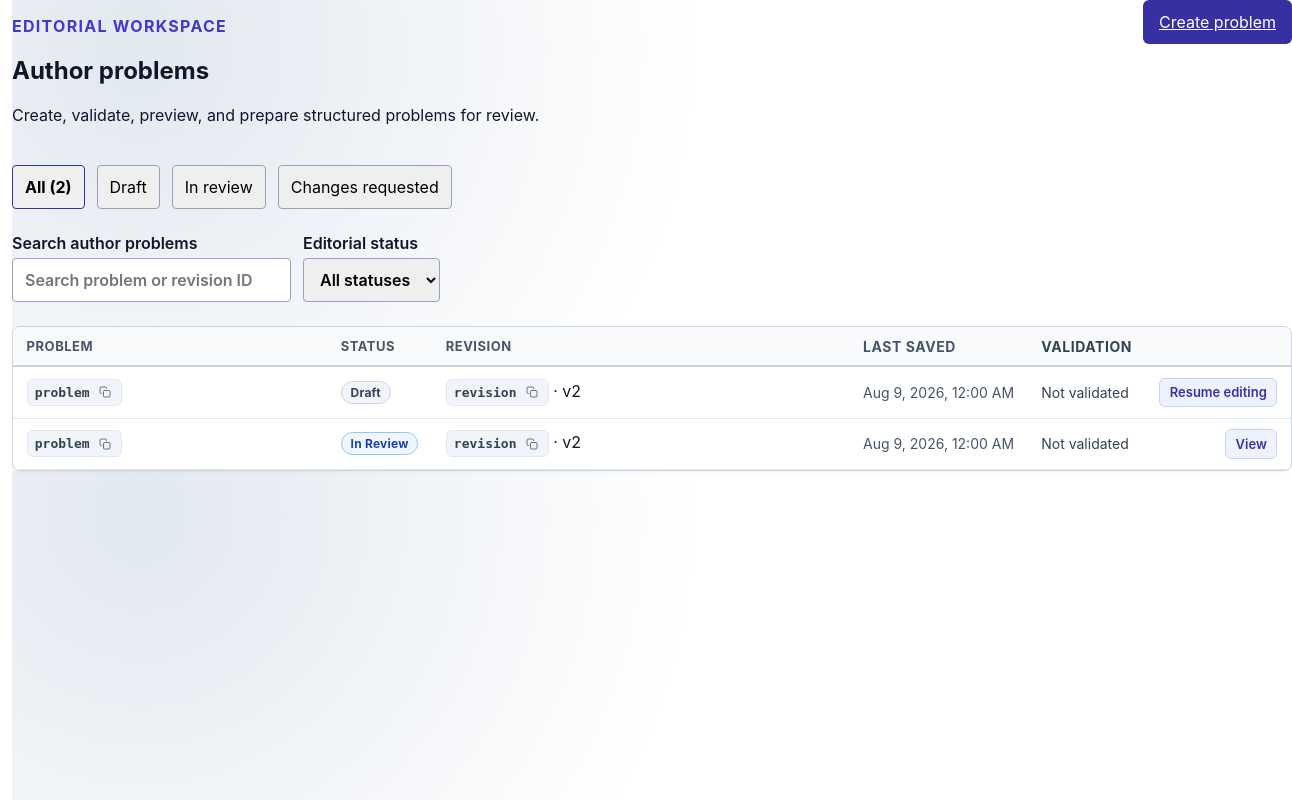
Scenario: IOAI Studio author problem list › filters drafts by search and editorial status
The width and height of the screenshot is (1292, 800).
In the search field labelled "Search author problems": (152, 280) [12, 258, 291, 302], type "review"
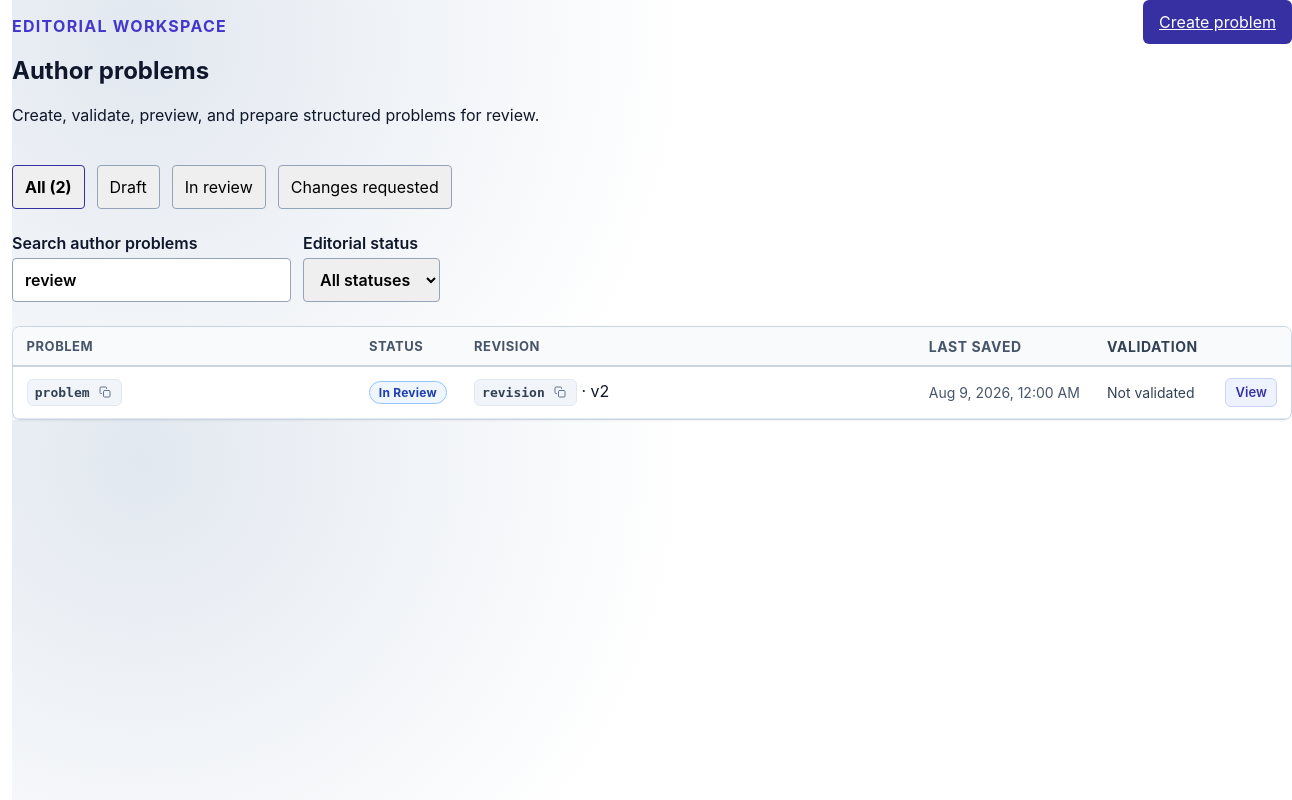
Expected: the text "problem-1" is not shown
Click the button "Draft": click(128, 187) [96, 165, 160, 209]
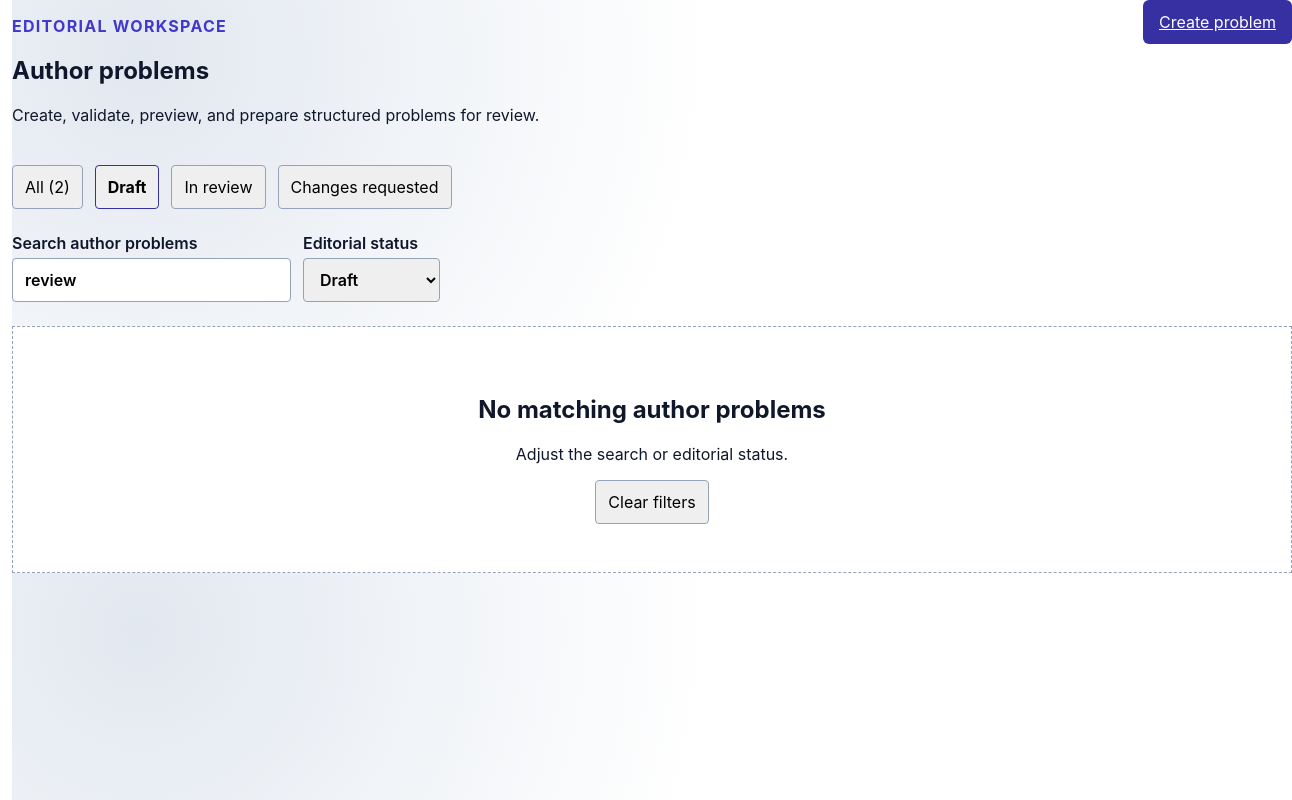
Expected: the heading "No matching author problems" is shown, [478, 395, 826, 424]
